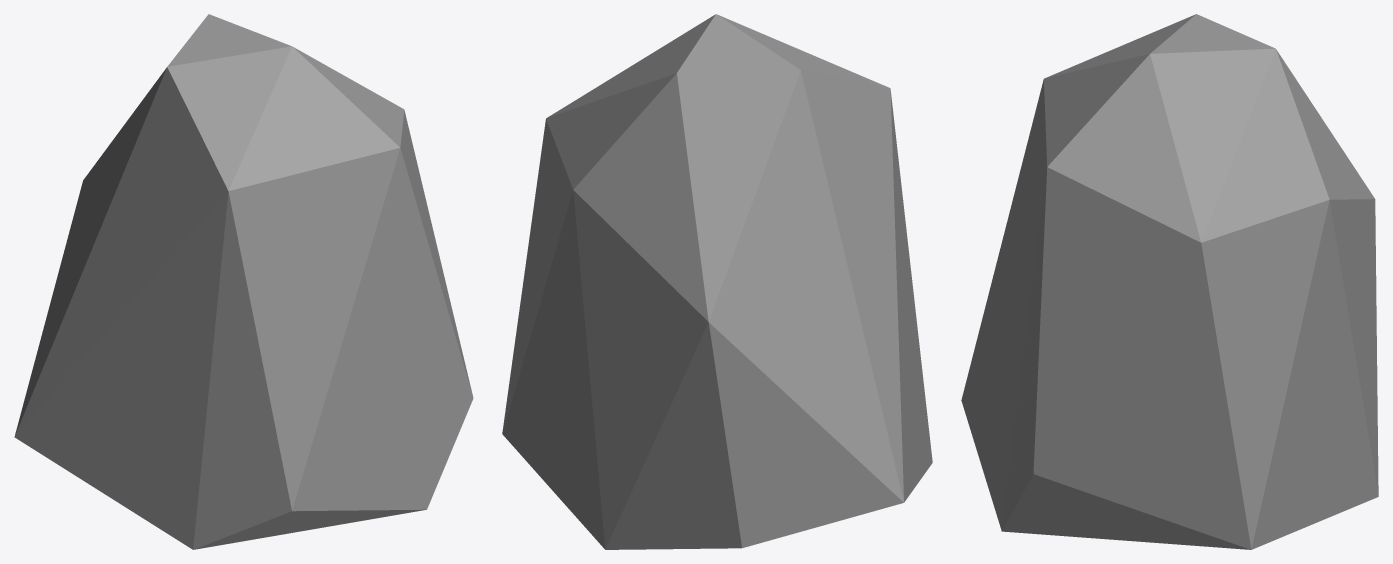
File: rock_04.glb
The picture shows the model from 3 angles, left to right: view 1: azimuth 30°, elevation 25°; view 2: azimuth 150°, elevation 25°; view 3: azimuth 270°, elevation 25°; orthographic projection. The views are drawn at different scales.
Parts seen in each view (by area): view 1: Rock_04; view 2: Rock_04; view 3: Rock_04.
Boxes of the visible parts, box(x1,y1,x2,y2) form: Rock_04: box(14, 14, 473, 549); Rock_04: box(502, 14, 932, 549); Rock_04: box(961, 14, 1378, 549).
Size of the model in its own units: 1.05 by 1.13 by 0.9548.
Materials: 1 (1 with a texture image).
